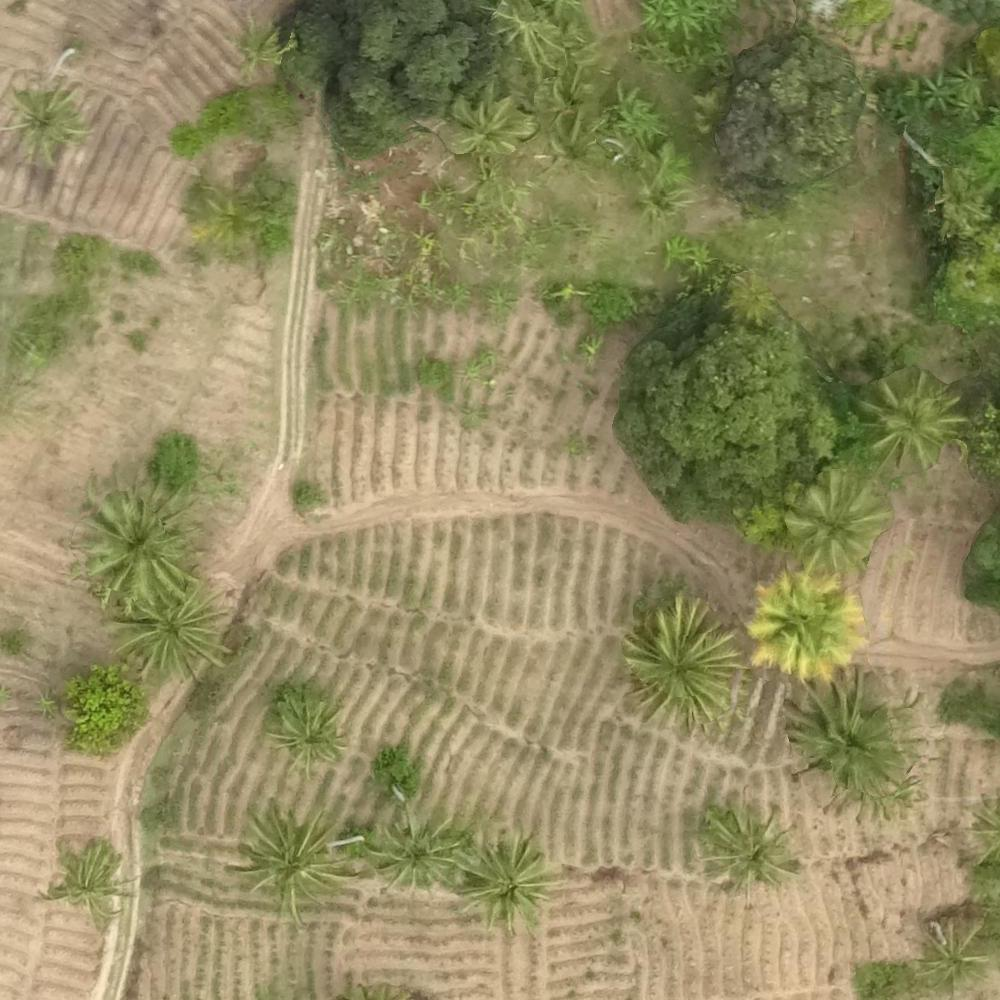Palm: (782, 677, 917, 802), (232, 806, 358, 912), (628, 604, 742, 719), (79, 488, 190, 596), (749, 573, 864, 677), (114, 584, 226, 678), (451, 832, 554, 930), (790, 467, 882, 568), (860, 374, 957, 466), (368, 807, 460, 898), (700, 800, 788, 889), (2, 79, 94, 163), (907, 918, 992, 1000), (51, 840, 134, 922), (266, 694, 348, 767)
